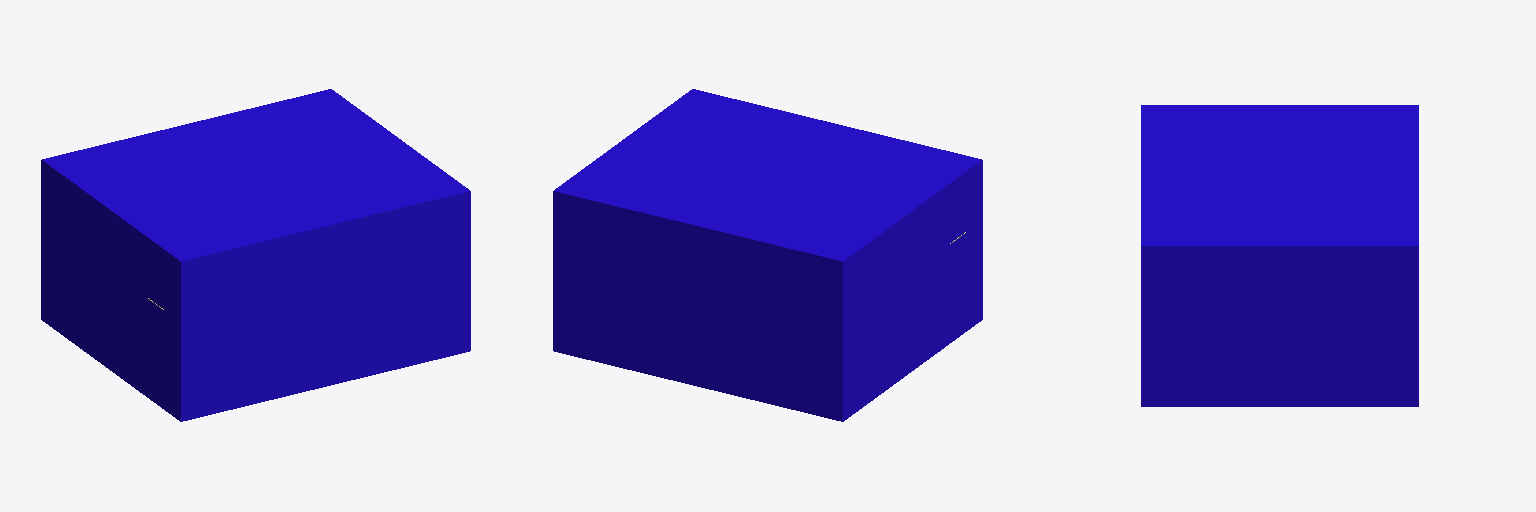
Rendered from vraie_piece2.obj.
3 renders of one model, left to right at view 1: azimuth 30°, elevation 25°; view 2: azimuth 150°, elevation 25°; view 3: azimuth 270°, elevation 25°, orthographic.
Visible parts, largest first — view 1: murs; view 2: murs; view 3: murs.
Part boxes in pixels (left/top/right/bottom): murs: left=41, top=89, right=470, bottom=421; murs: left=553, top=89, right=982, bottom=421; murs: left=1141, top=105, right=1418, bottom=406.
Bounding box in the file's own units: 19.73 × 10.49 × 16.43.